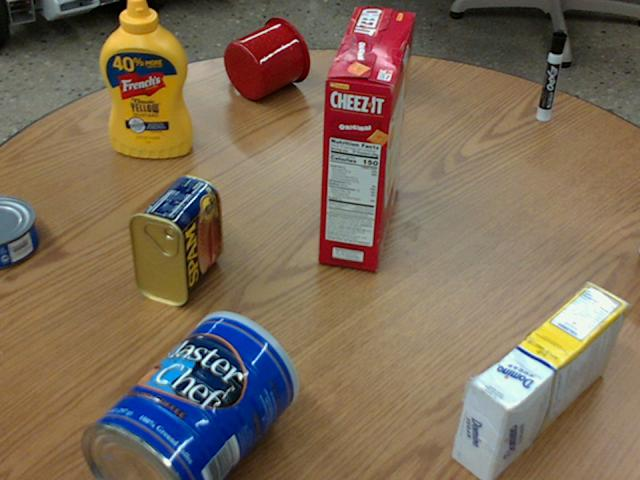cracker_box: (317, 8, 411, 270)
gelatin_box: (380, 28, 409, 107)
large_marker: (536, 31, 565, 120)
master_chef_can: (81, 311, 297, 479)
mug: (223, 15, 309, 99)
mustard_bottle: (100, 0, 191, 157)
potted_meat_can: (127, 174, 219, 305)
sugar_box: (451, 282, 625, 479)
tomato_soup_can: (636, 235, 639, 258)
tuna_fish_can: (0, 195, 39, 266)
